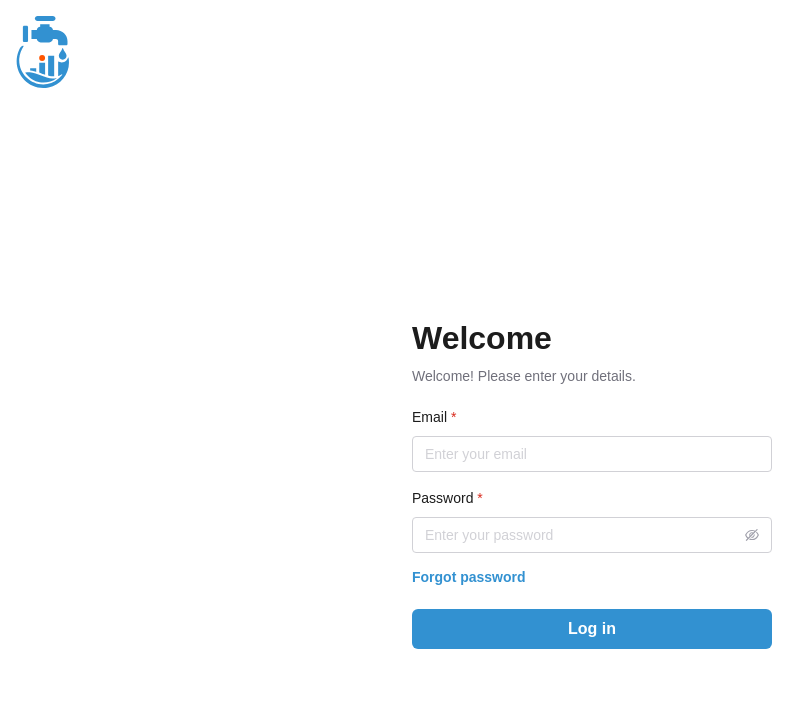
Test case: LoginPage › shows email required validation
The width and height of the screenshot is (790, 714).
Click the button "Log in".
click(592, 629)  # box [412, 609, 772, 649]
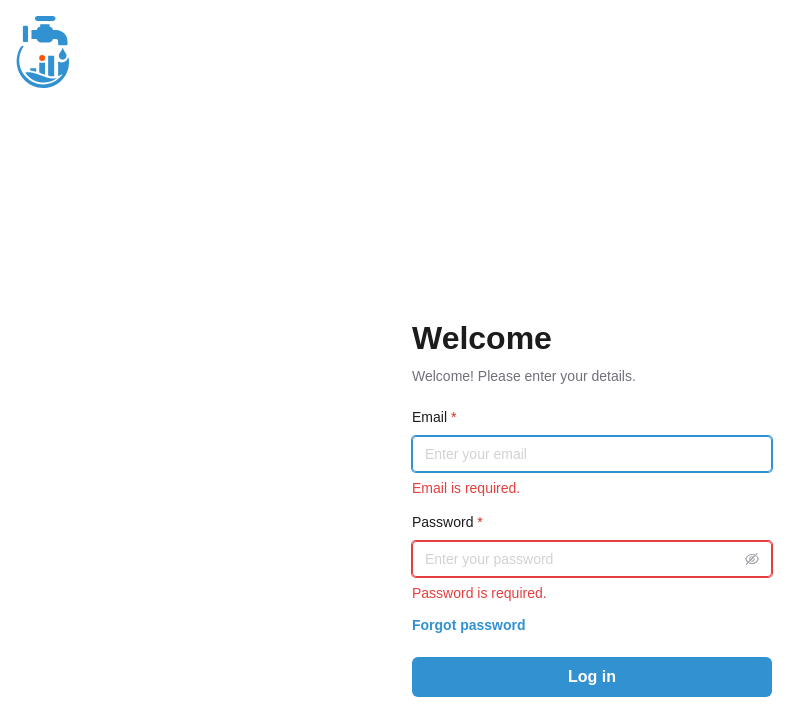
Expected: the text "Email is required." is shown, [412, 480, 520, 496]
